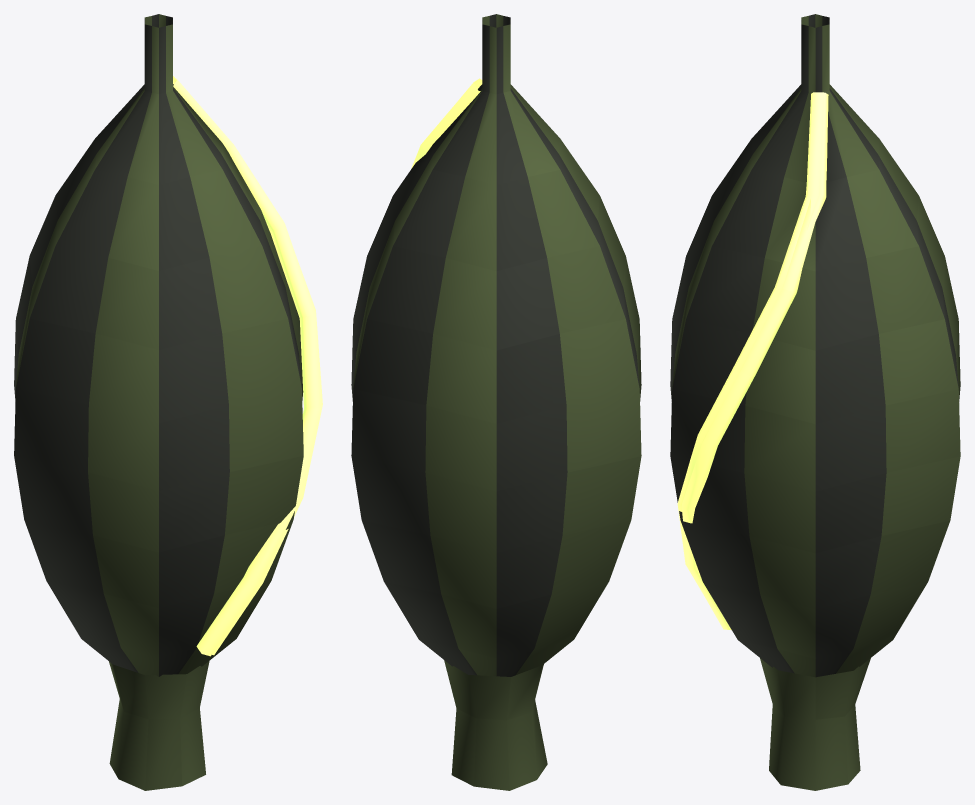
File: obj_capullo_3.glb
The picture shows the model from 3 angles, left to right: view 1: azimuth 30°, elevation 25°; view 2: azimuth 150°, elevation 25°; view 3: azimuth 270°, elevation 25°; orthographic projection.
Parts seen in each view (by area): view 1: propforge-libre-capullo; view 2: propforge-libre-capullo; view 3: propforge-libre-capullo.
Boxes of the visible parts, x1,y1,x2,y2 form: propforge-libre-capullo: (14, 14, 322, 790); propforge-libre-capullo: (351, 14, 641, 790); propforge-libre-capullo: (670, 14, 960, 790).
Bounding box in the file's own units: 0.412 × 1.02 × 0.3568.
